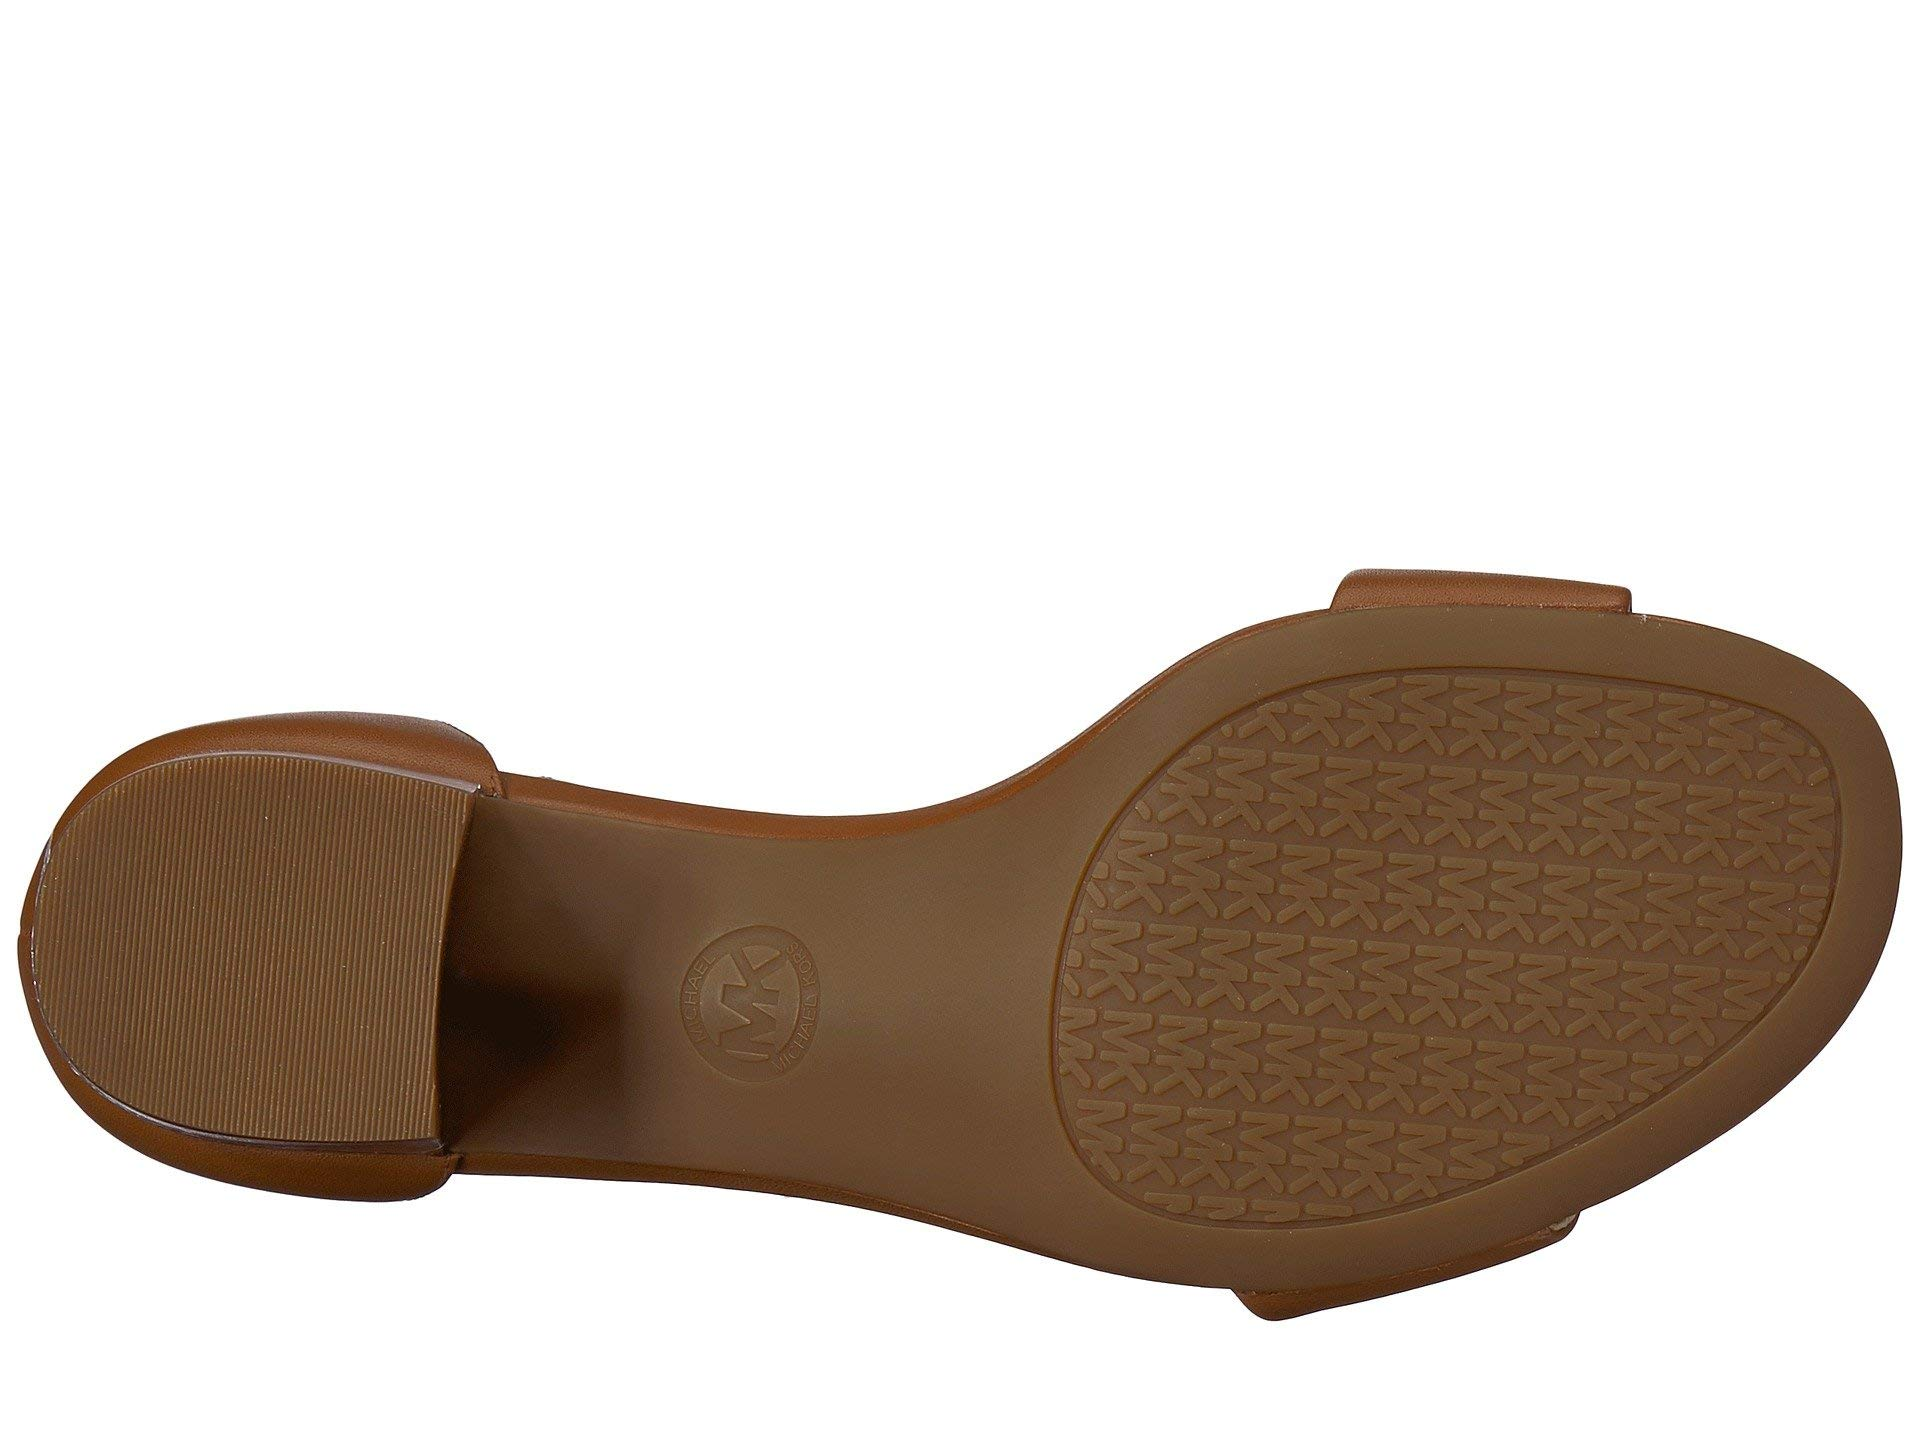circle: (638, 877, 872, 1125)
line: (1252, 703, 1696, 1113), (101, 788, 425, 1100)
text: (1252, 703, 1696, 1113), (638, 877, 872, 1125)
